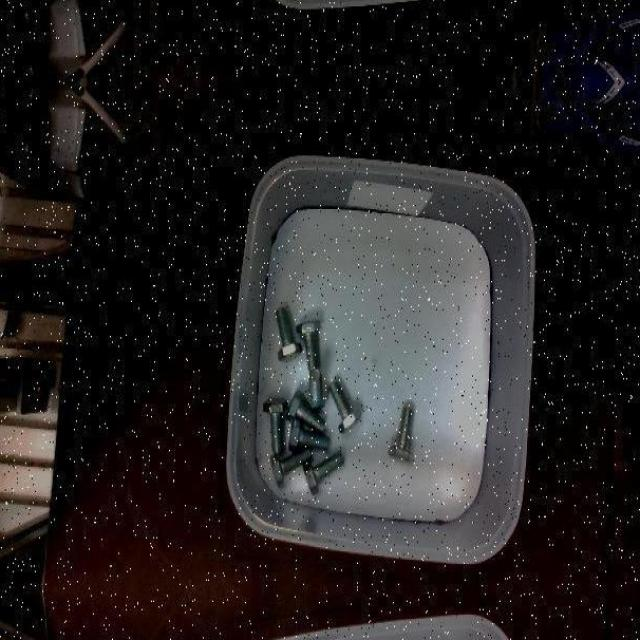screw: (303, 450, 344, 495), (285, 388, 325, 432), (330, 379, 362, 433), (270, 447, 312, 487), (288, 417, 329, 453), (275, 308, 302, 362), (388, 407, 414, 463), (263, 398, 287, 455), (295, 318, 320, 370), (304, 368, 329, 412)
